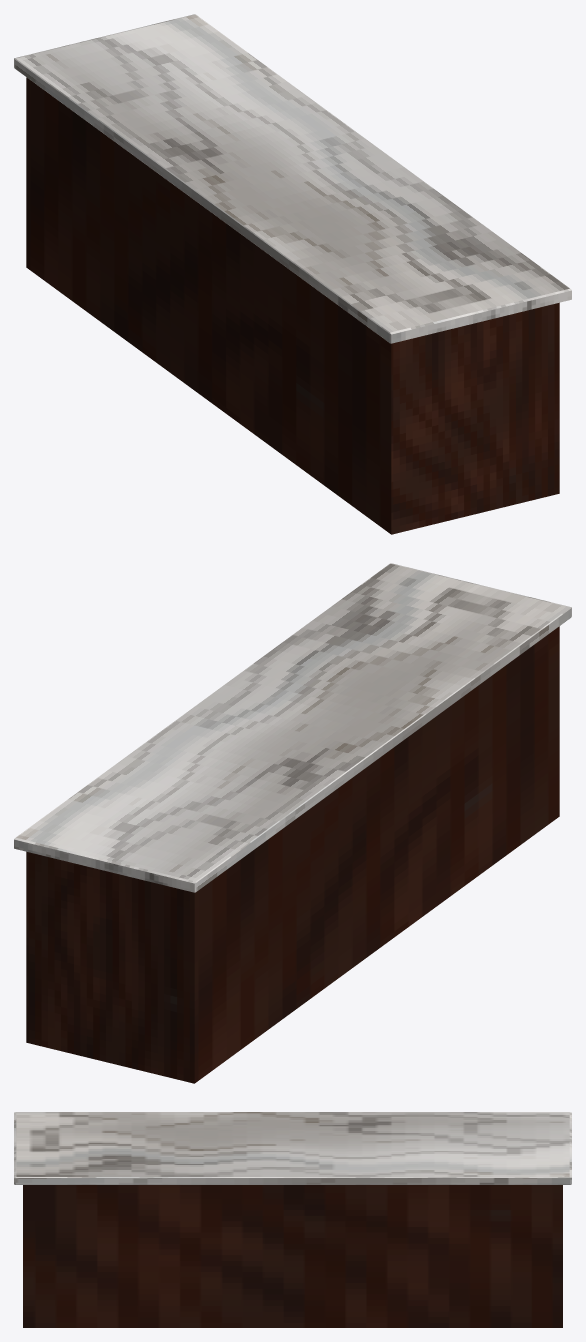
File: kitchen_bar.glb
The picture shows the model from 3 angles, top to bottom: view 1: azimuth 30°, elevation 25°; view 2: azimuth 150°, elevation 25°; view 3: azimuth 270°, elevation 25°; orthographic projection. The views are drawn at different scales.
Visible parts, largest first — view 1: Cube, Cube.001; view 2: Cube, Cube.001; view 3: Cube, Cube.001.
Part boxes in pixels (x1,y1,x2,y2): Cube: (26,77,559,534); Cube.001: (14,14,571,343); Cube: (26,626,559,1083); Cube.001: (14,563,571,892); Cube: (23,1185,562,1327); Cube.001: (14,1112,571,1184).
Size of the model in its own units: 2.47 by 2.69 by 8.88.
Materials: 2 (2 with a texture image).
